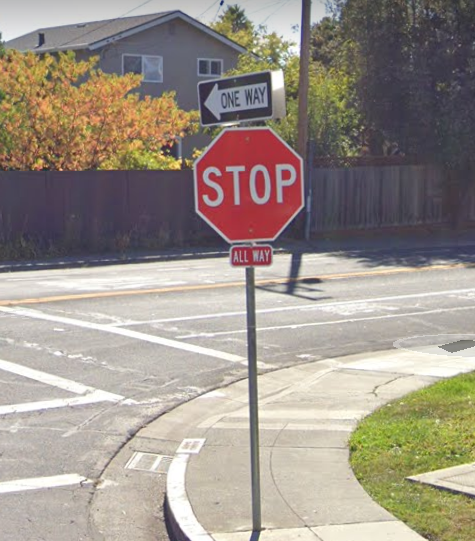stop_sign: (193, 128, 305, 239)
